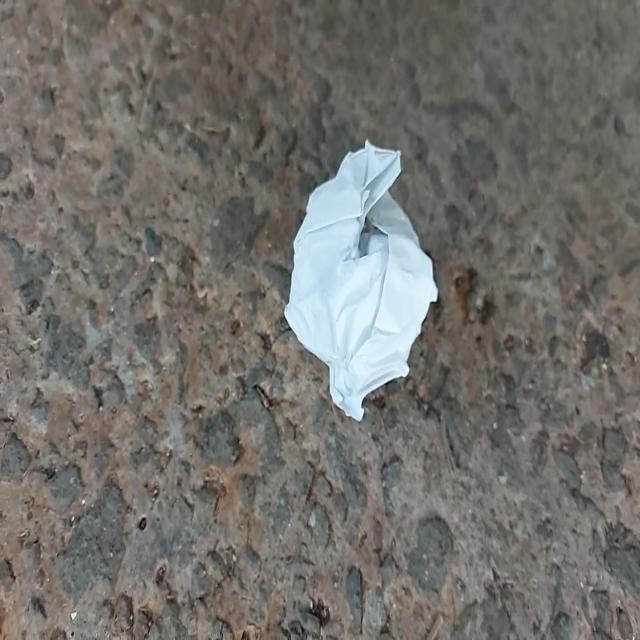Paper: (278, 123, 449, 431)
